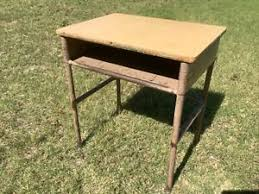desk: (54, 12, 226, 190)
